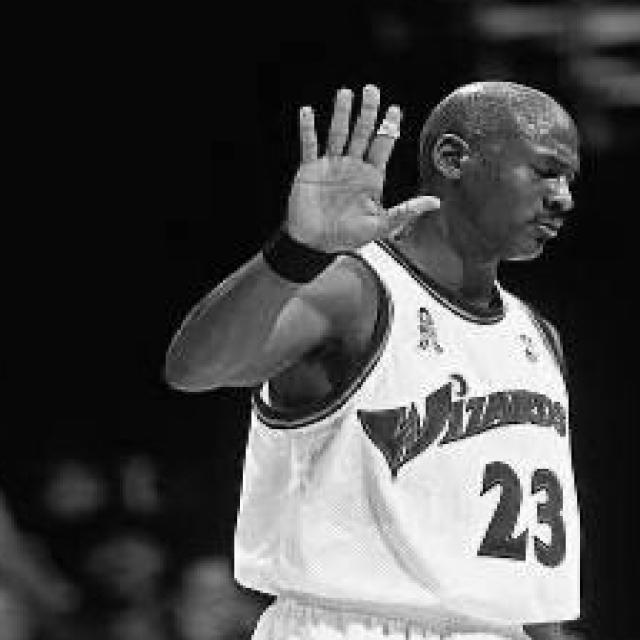stop: (277, 80, 446, 259)
